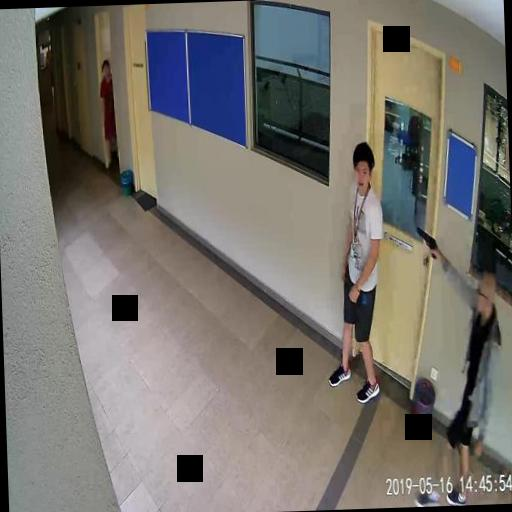Handgun: (415, 222, 437, 260)
